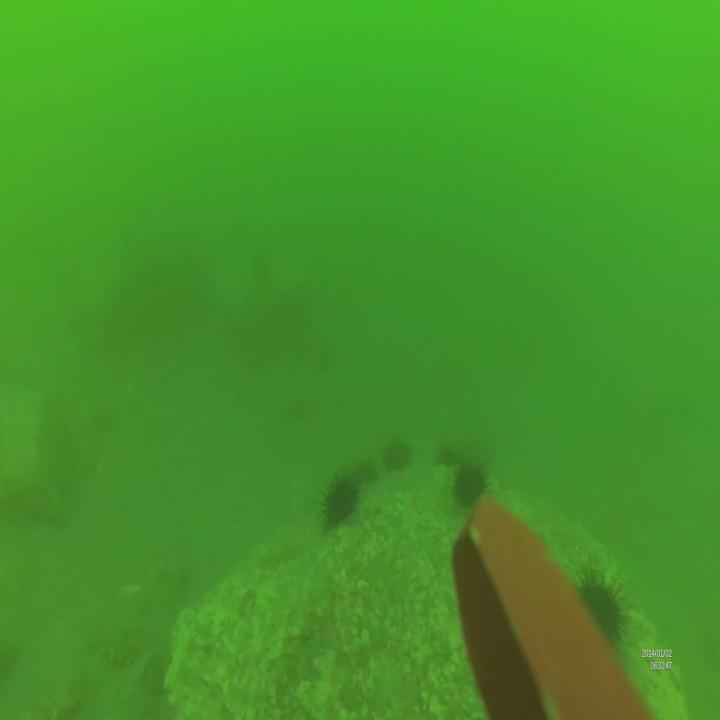echinus: (569, 556, 634, 653), (315, 469, 361, 529), (448, 460, 490, 510), (378, 433, 412, 478), (434, 438, 454, 473)
